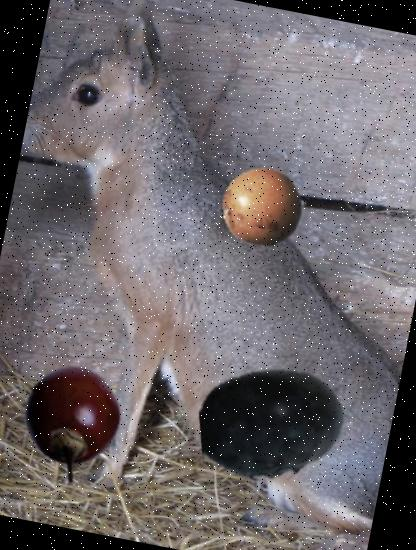Blueberry: (187, 340, 357, 510)
Granadilla: (214, 158, 314, 258)
Tamarillo: (7, 355, 132, 480)
